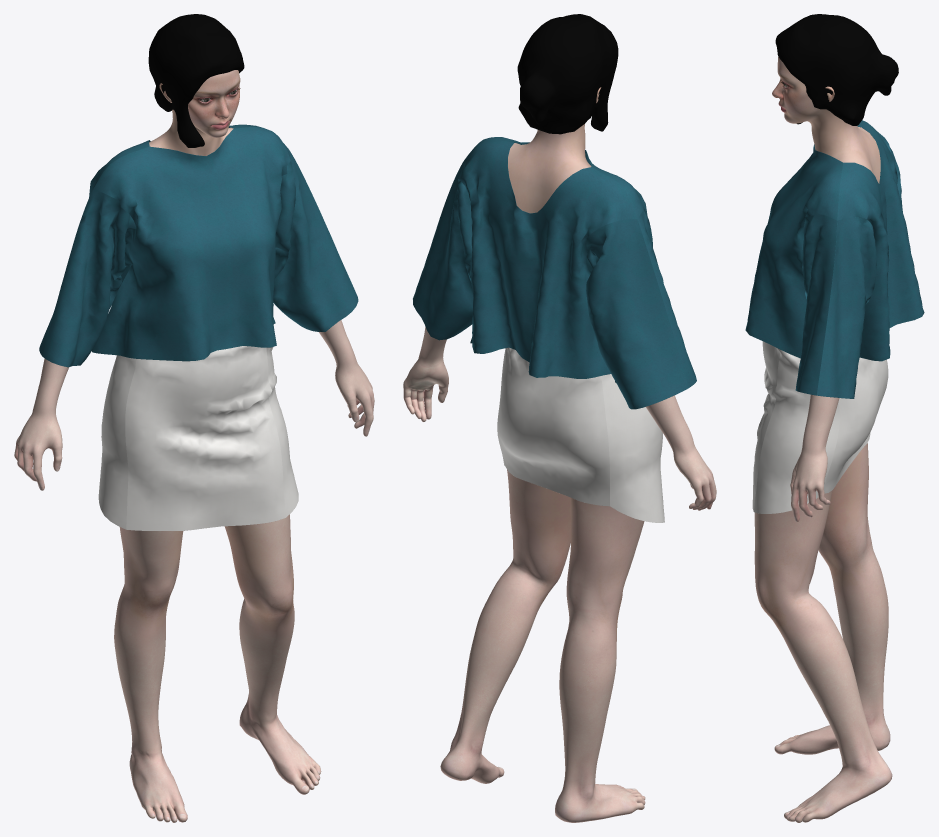
Rendered from Custom_View_9__FV2_07.obj.
The picture shows the model from 3 angles, left to right: view 1: azimuth 30°, elevation 25°; view 2: azimuth 150°, elevation 25°; view 3: azimuth 270°, elevation 25°; orthographic projection. The views are drawn at different scales.
Size of the model in its own units: 775 by 1773 by 379.
